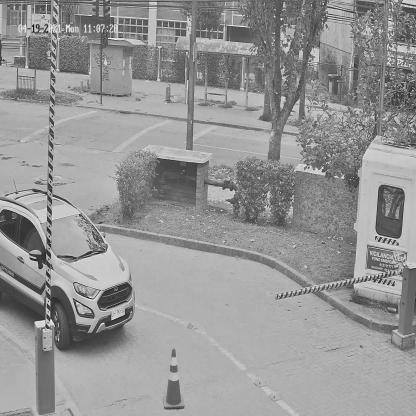Patente: (111, 304, 126, 323)
